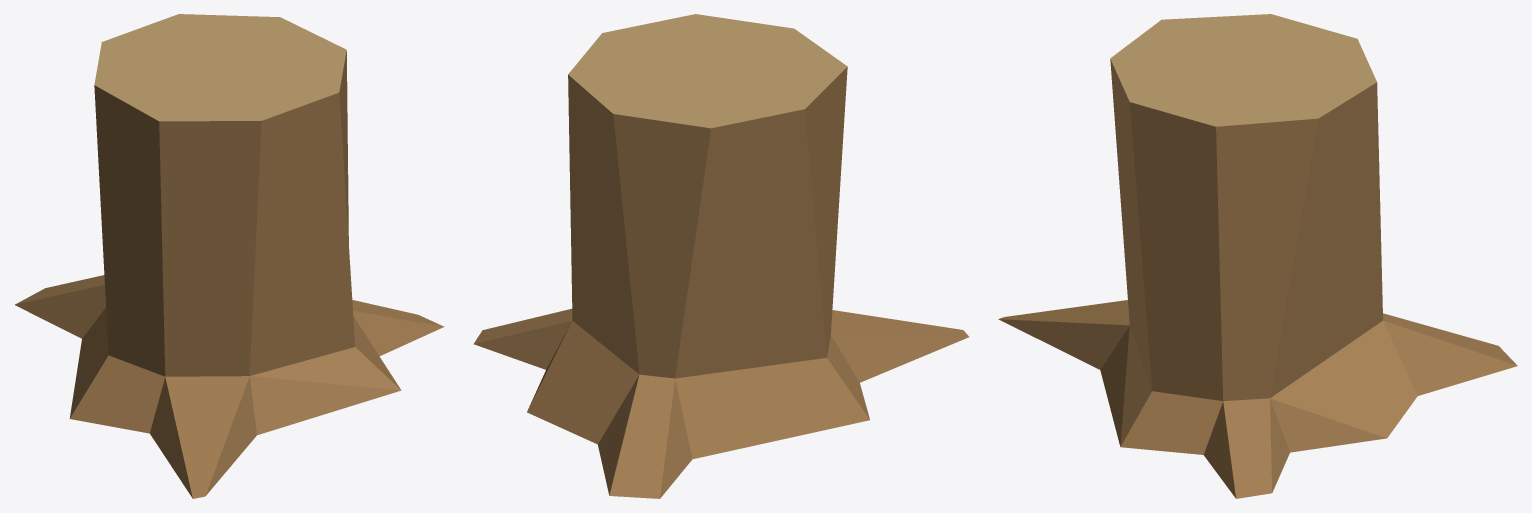
Rendered from log_04.fbx.
The picture shows the model from 3 angles, left to right: view 1: azimuth 30°, elevation 25°; view 2: azimuth 150°, elevation 25°; view 3: azimuth 270°, elevation 25°; orthographic projection. The views are drawn at different scales.
Parts seen in each view (by area): view 1: log_04; view 2: log_04; view 3: log_04.
Part boxes in pixels (<box>): log_04: <box>15,14,444,498</box>; log_04: <box>473,14,968,498</box>; log_04: <box>998,14,1517,498</box>.
Bounding box in the file's own units: 71.63 × 56.38 × 83.33.
